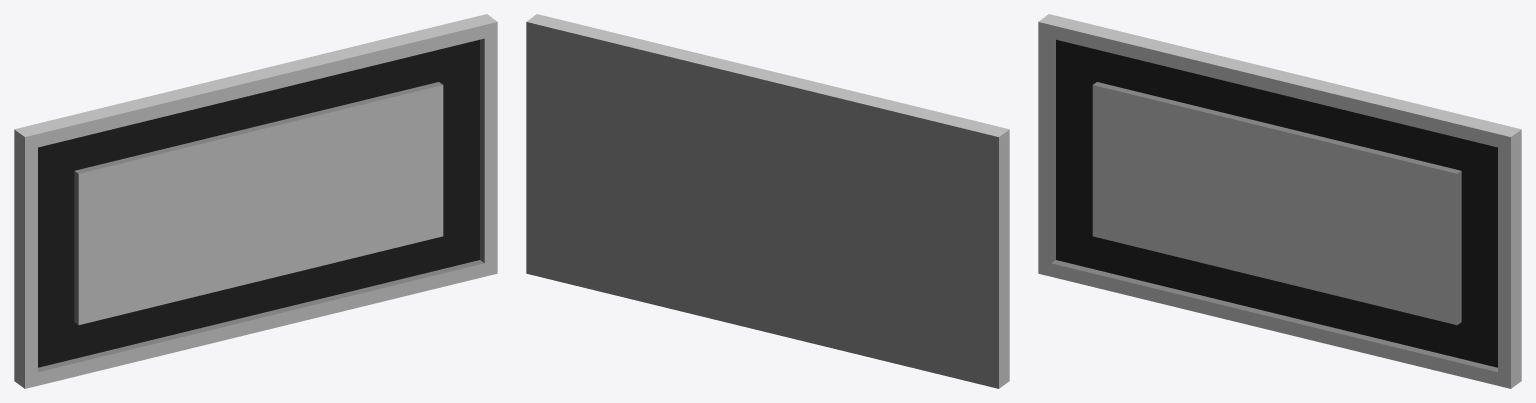
The model's file is Painting.fbx.
The picture shows the model from 3 angles, left to right: view 1: azimuth 30°, elevation 25°; view 2: azimuth 150°, elevation 25°; view 3: azimuth 330°, elevation 25°; orthographic projection.
Parts seen in each view (by area): view 1: Painting.007; view 2: Painting.007; view 3: Painting.007.
Boxes of the visible parts, box(x1,y1,x2,y2) form: Painting.007: box(14, 14, 497, 388); Painting.007: box(526, 14, 1009, 388); Painting.007: box(1038, 14, 1521, 388).
Size of the model in its own units: 0.9307 by 0.0367 by 0.4737.
